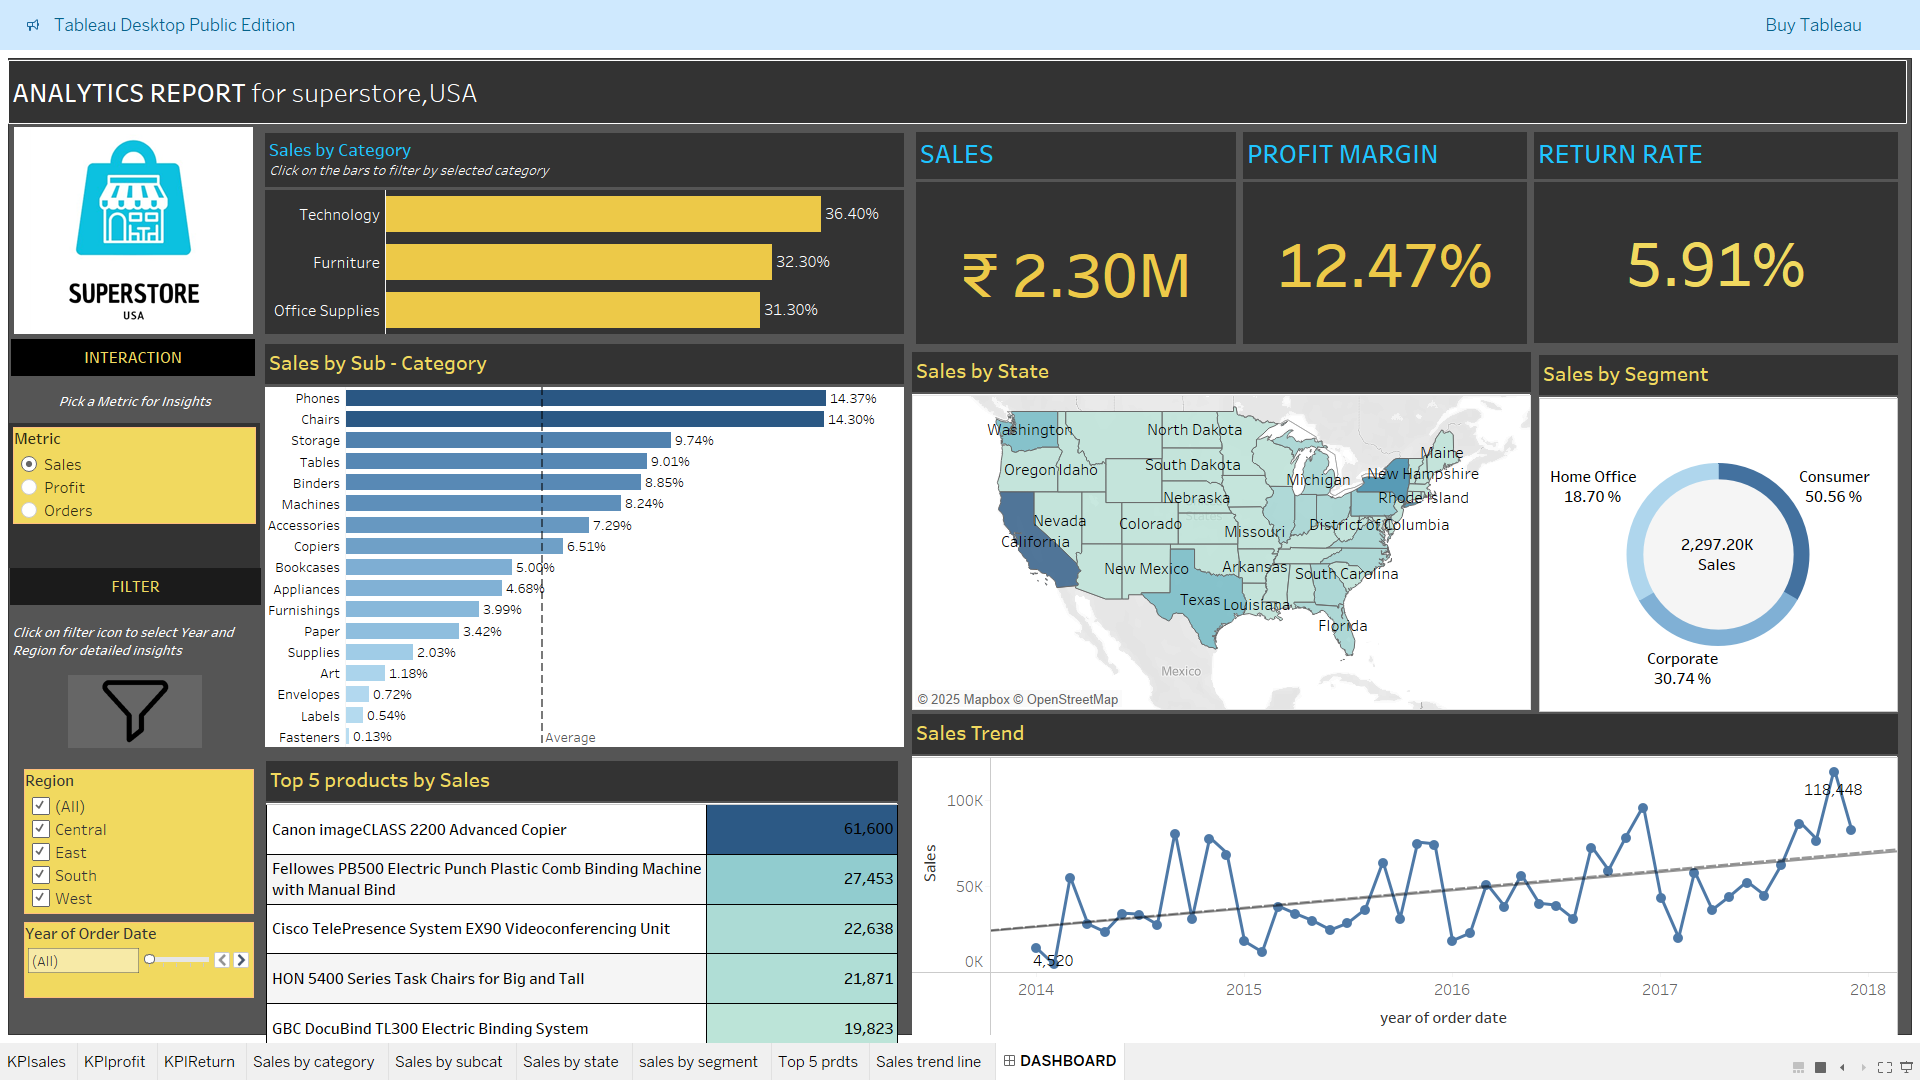

The dashboard page shown, as its layout file describes it:
{"tool":"tableau","page":{"name":"Assignment 7","canvas":[1000,1000],"units":"permille","ordinal":0},"visuals":[{"type":"text","box":[4.2,10,989.1,64.9]},{"type":"image","param":"Image/superstore.jpg","box":[7.1,77.4,124.7,208.5]},{"type":"worksheet","title":"KPIsales","mark":"Automatic","box":[476.8,82.4,166.9,213.5]},{"type":"worksheet","title":"KPIprofit","mark":"Automatic","box":[647.6,82.4,147.9,213.5]},{"type":"worksheet","title":"KPIReturn","mark":"Automatic","box":[799,82.4,189.5,212.2]},{"type":"worksheet","title":"Sales by category","mark":"Automatic","rows":["Category"],"cols":["Calculation_807551775290781703"],"box":[137.8,83.7,333.1,202.2]},{"type":"text","box":[5.9,290.9,127.1,37.5]},{"type":"worksheet","title":"Sales by subcat","mark":"Automatic","rows":["Sub-Category"],"box":[137.8,295.9,333.1,405.7]},{"type":"worksheet","title":"Sales by state","mark":"Automatic","box":[474.9,304.6,322.3,360.8]},{"type":"worksheet","title":"sales by segment","mark":"Pie","rows":["Calculation_807551773703835651","Calculation_807551773704380421"],"box":[801.5,307.1,187.1,359.6]},{"type":"text","box":[7.7,334.6,125.4,37.5]},{"type":"parameter","param":"[Parameters].[Parameter 2]","box":[4.7,375.8,130.7,131.1]},{"type":"text","box":[5.3,521.9,130.7,37.5]},{"type":"text","box":[4.7,560.6,130.7,68.7]},{"type":"dashboard-object","box":[35.3,624.2,70,78.7]},{"type":"worksheet","title":"Sales trend line","mark":"Automatic","rows":["Calculation_807551775290781703","Calculation_807551775290781703"],"cols":["Order Date"],"box":[474.9,669.2,513.6,333.3]},{"type":"filter","title":"Sales by category","param":"[federated.1wud0ax0znbs6y1djaqqo1dp6k2g].[none:Region:nk]","box":[10.6,720.4,124.2,191]}]}

Visuals, with their boxes on the dashboard's canvas, which has no fixed pixel size, in thousandths of its width and height (x1, y1, x2, y2). These are canvas units, not pixel positions in the 1920x1080 screenshot, which may show the page scaled, cropped or inside an application window:
text: detection(4, 10, 993, 75)
image: detection(7, 77, 132, 286)
"KPIsales" worksheet: detection(477, 82, 644, 296)
"KPIprofit" worksheet: detection(648, 82, 796, 296)
"KPIReturn" worksheet: detection(799, 82, 988, 295)
"Sales by category" worksheet: detection(138, 84, 471, 286)
text: detection(6, 291, 133, 328)
"Sales by subcat" worksheet: detection(138, 296, 471, 702)
"Sales by state" worksheet: detection(475, 305, 797, 665)
"sales by segment" worksheet (Pie marks): detection(802, 307, 989, 667)
text: detection(8, 335, 133, 372)
parameter: detection(5, 376, 135, 507)
text: detection(5, 522, 136, 559)
text: detection(5, 561, 135, 629)
dashboard-object: detection(35, 624, 105, 703)
"Sales trend line" worksheet: detection(475, 669, 988, 1002)
"Sales by category" filter: detection(11, 720, 135, 911)
